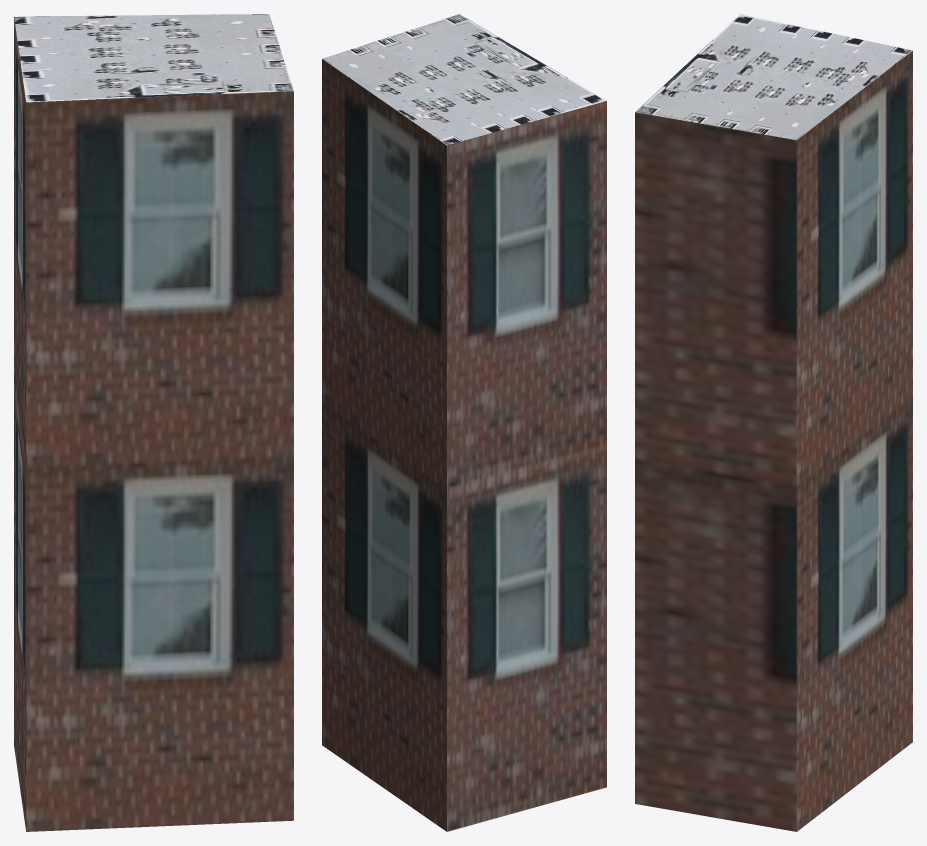
File: ResTex__370.fbx
The picture shows the model from 3 angles, left to right: view 1: azimuth 30°, elevation 25°; view 2: azimuth 150°, elevation 25°; view 3: azimuth 270°, elevation 25°; orthographic projection. The views are drawn at different scales.
Visible parts, largest first — view 1: CityEngineMaterial_14_m, CityEngineMaterial_4_m; view 2: CityEngineMaterial_14_m, CityEngineMaterial_4_m; view 3: CityEngineMaterial_14_m, CityEngineMaterial_4_m.
Boxes of the visible parts, x1,y1,x2,y2 form: CityEngineMaterial_14_m: (14,17,293,831); CityEngineMaterial_4_m: (14,14,293,102); CityEngineMaterial_14_m: (322,59,606,831); CityEngineMaterial_4_m: (322,14,606,145); CityEngineMaterial_14_m: (635,50,912,831); CityEngineMaterial_4_m: (635,14,912,140).
Size of the model in its own units: 2.35 by 6 by 2.18.
Materials: 2 (2 with a texture image).
